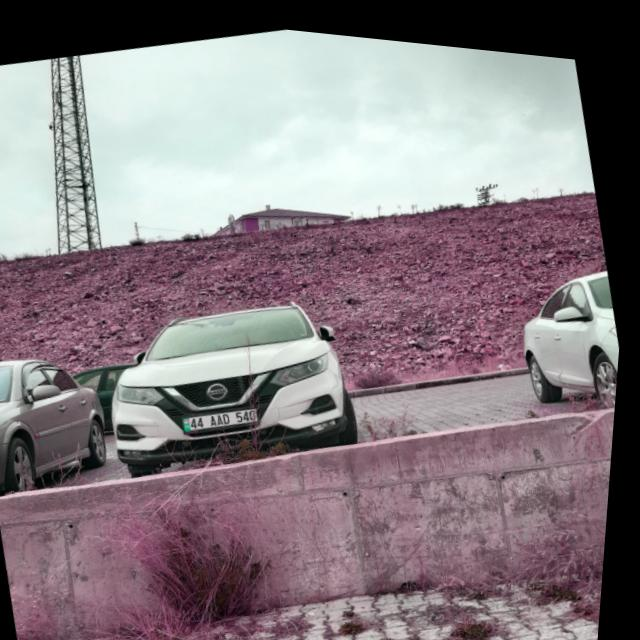license_plate: (187, 396, 265, 431)
